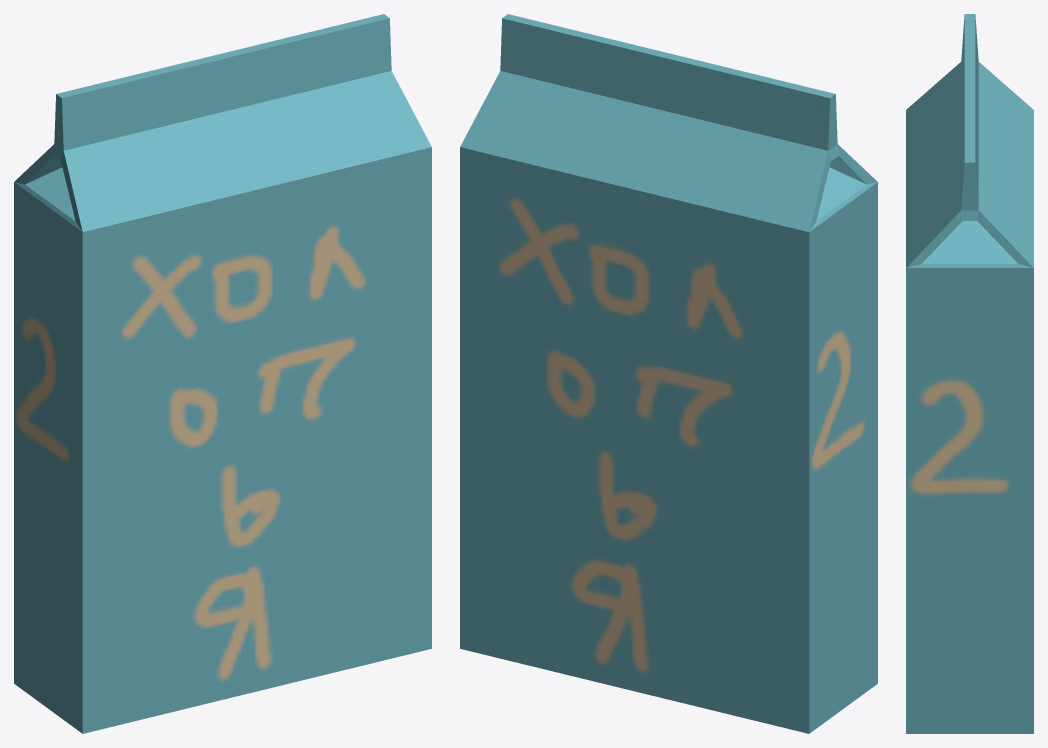
File: flakes.fbx
3 renders of one model, left to right at view 1: azimuth 30°, elevation 25°; view 2: azimuth 150°, elevation 25°; view 3: azimuth 270°, elevation 25°, orthographic. The views are drawn at different scales.
Parts seen in each view (by area): view 1: flakes; view 2: flakes; view 3: flakes.
Part boxes in pixels (bbox=[...]): flakes: bbox=[14, 14, 431, 733]; flakes: bbox=[460, 14, 877, 733]; flakes: bbox=[906, 14, 1033, 733].
Bounding box in the file's own units: 5.51 × 1.88 × 9.2.
